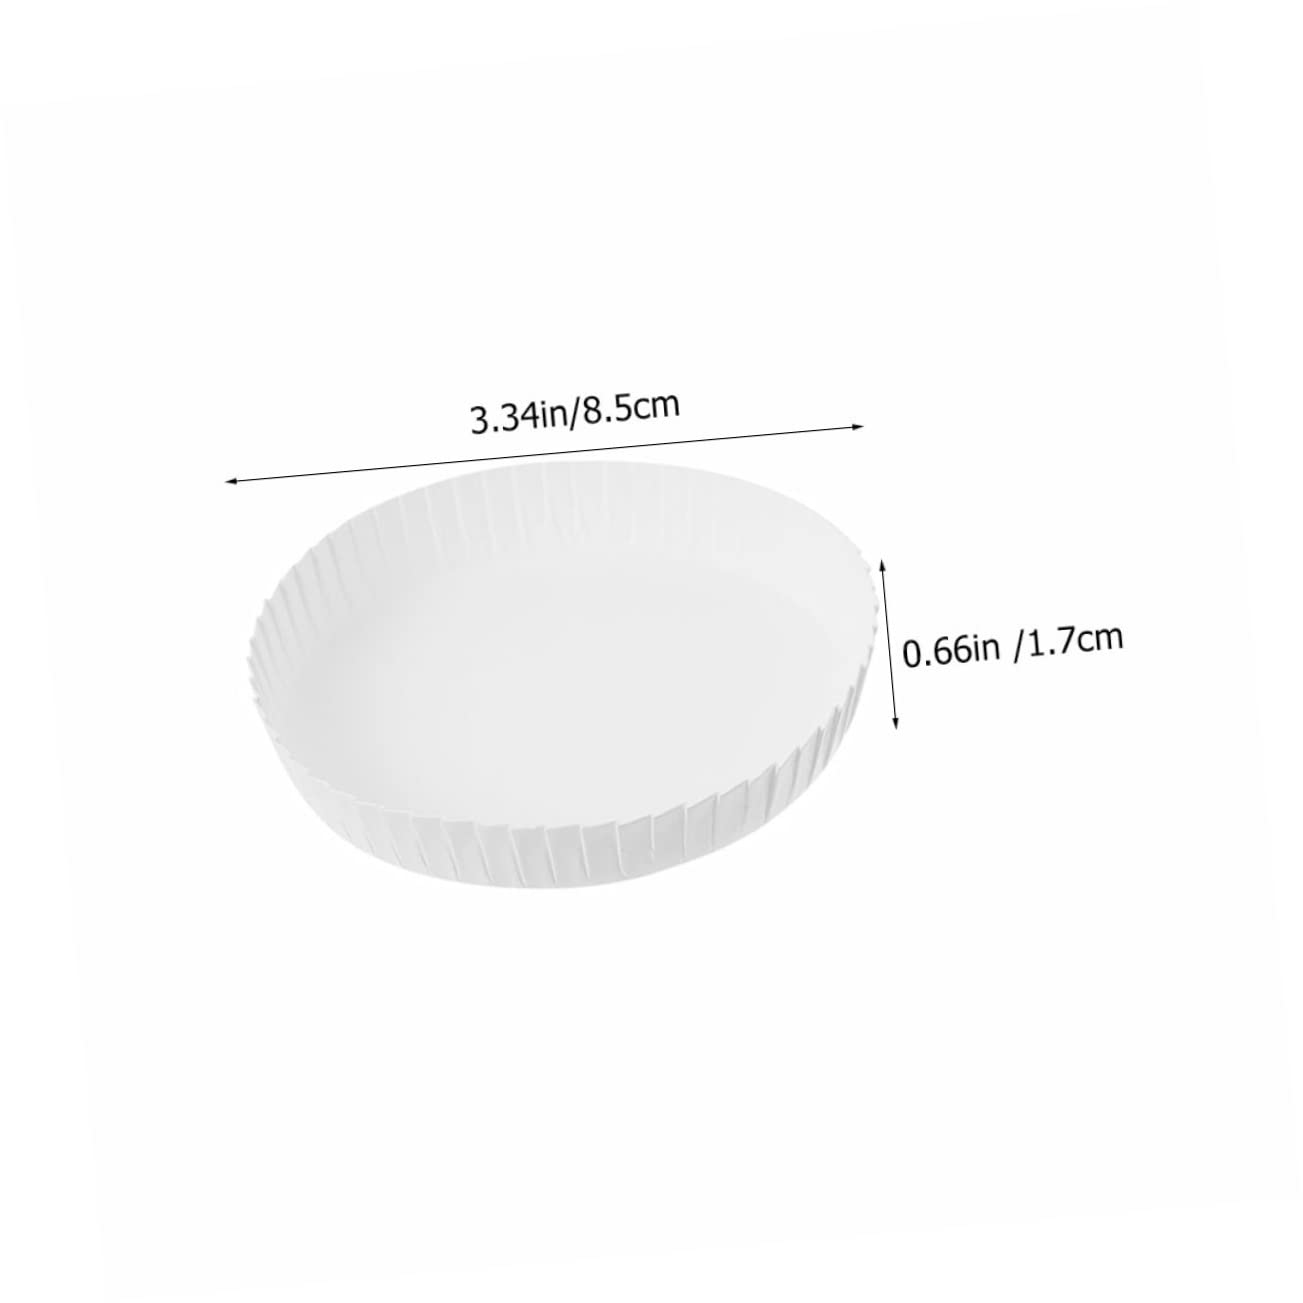0.66in: (903, 634, 1000, 668)
